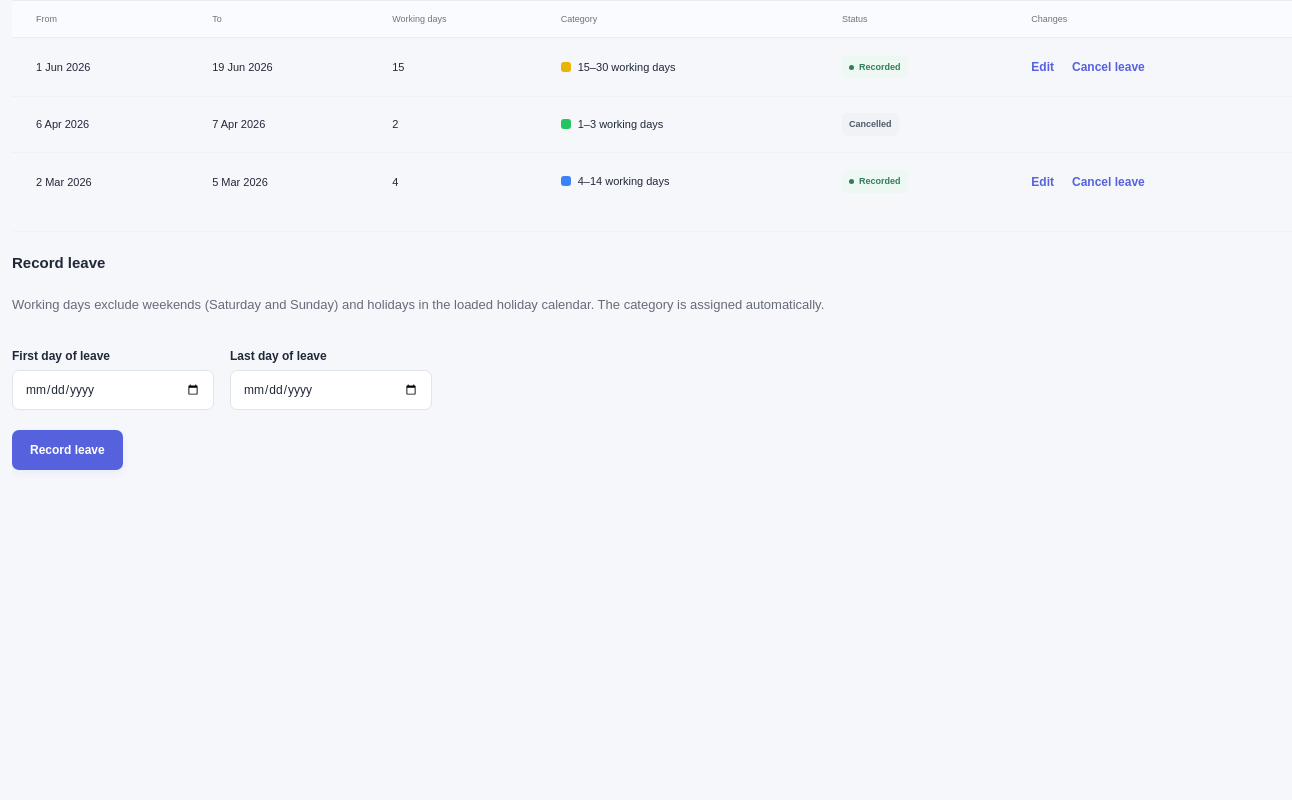
Test case: LeavePanel edit and cancel (Story 5.3) › keeps the edit form open with the error after a refusal
Click the button with aria-label "Edit leave: 2 Mar 2026 to 5 Mar 2026".
click(1043, 182)  # box [1031,169,1054,195]
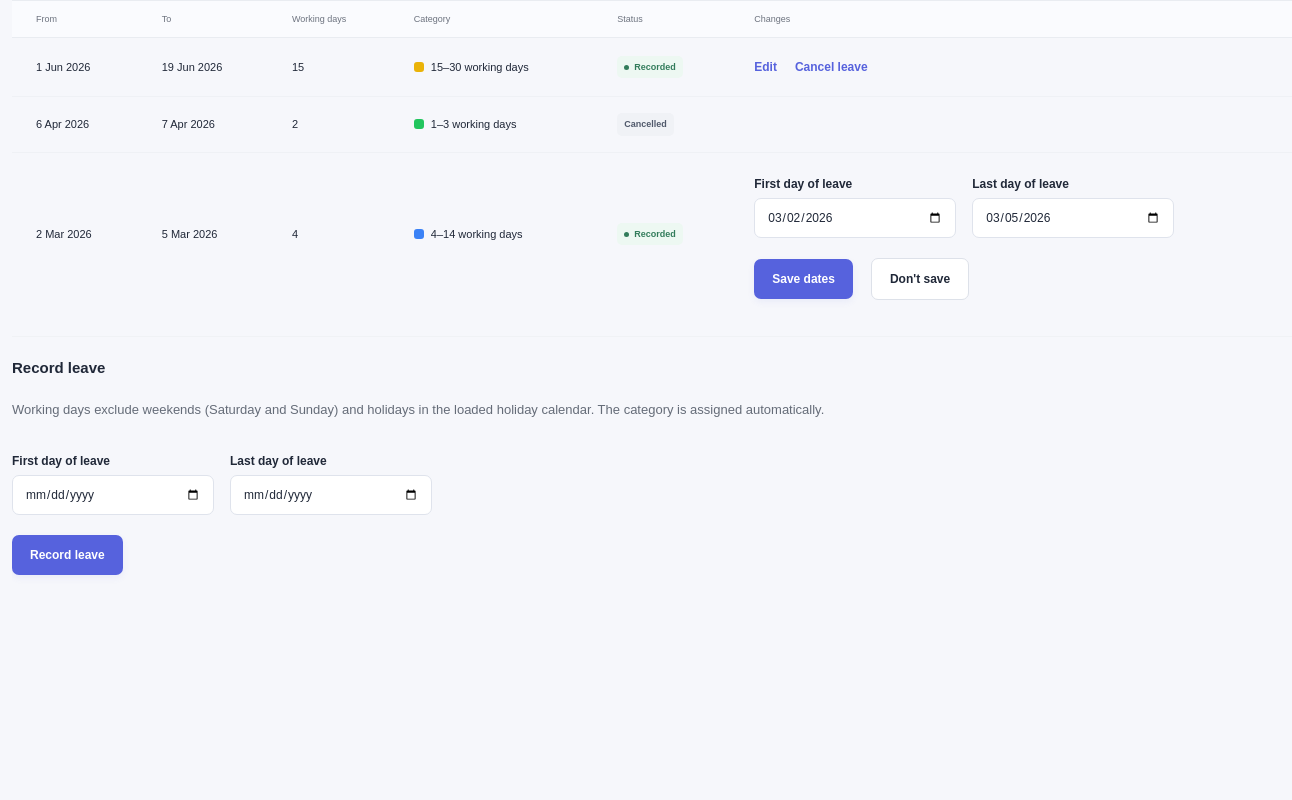
Type "2026-06-02" into the date field labelled "Last day of leave" in the row of "2 Mar 2026".
click(1073, 218); type("2026-06-02")  # box [972,198,1174,238]
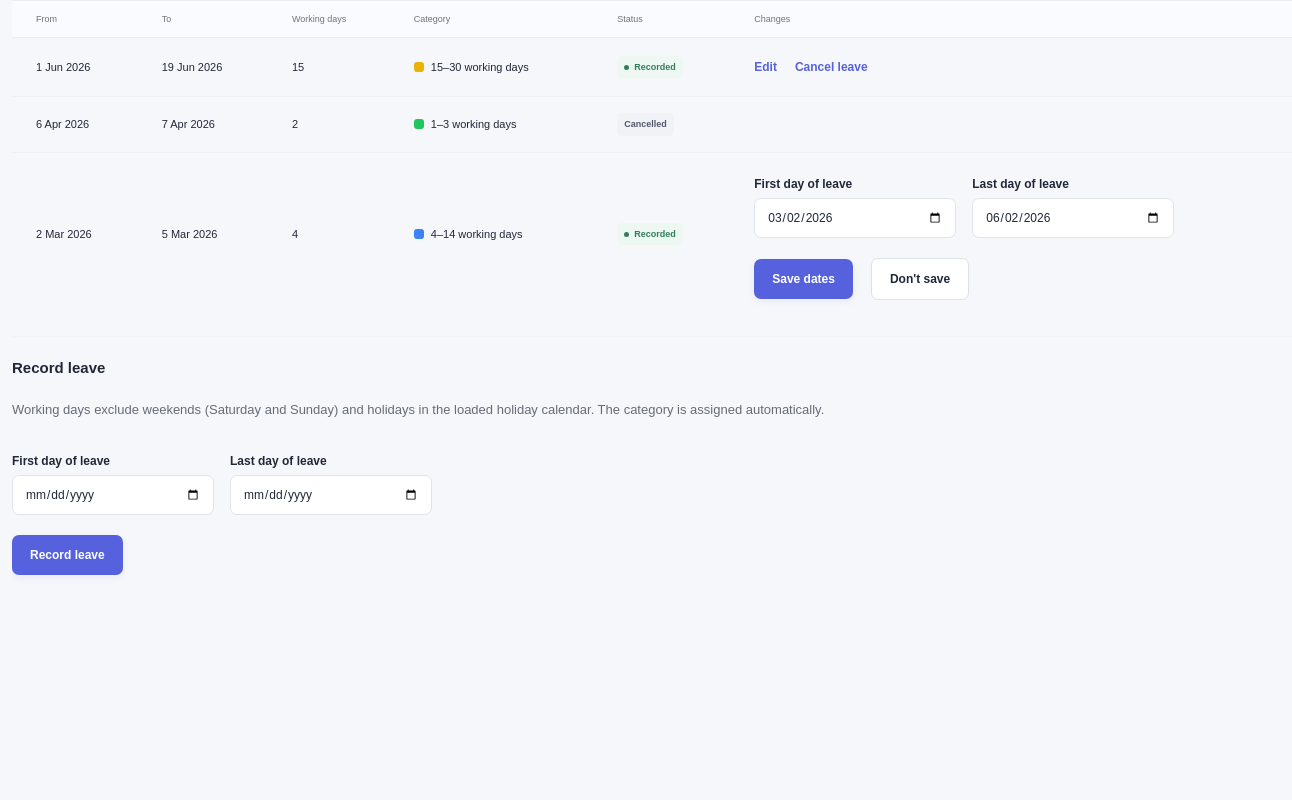
Click the button "Save dates".
click(804, 279)  # box [754,259,853,299]
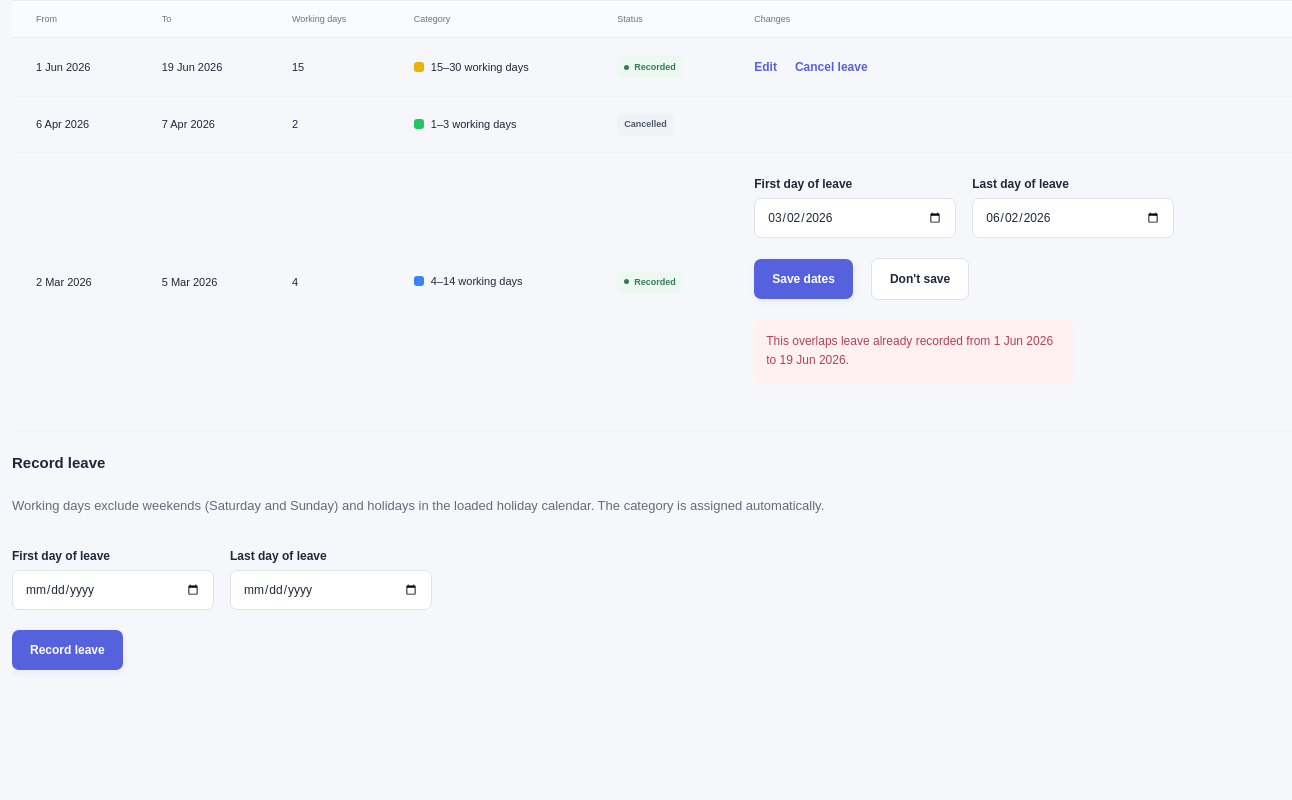
Expected: the message reads "This overlaps leave already recorded from 1 Jun 2026 to 19 Jun 2026.", [766,334,1053,367]
